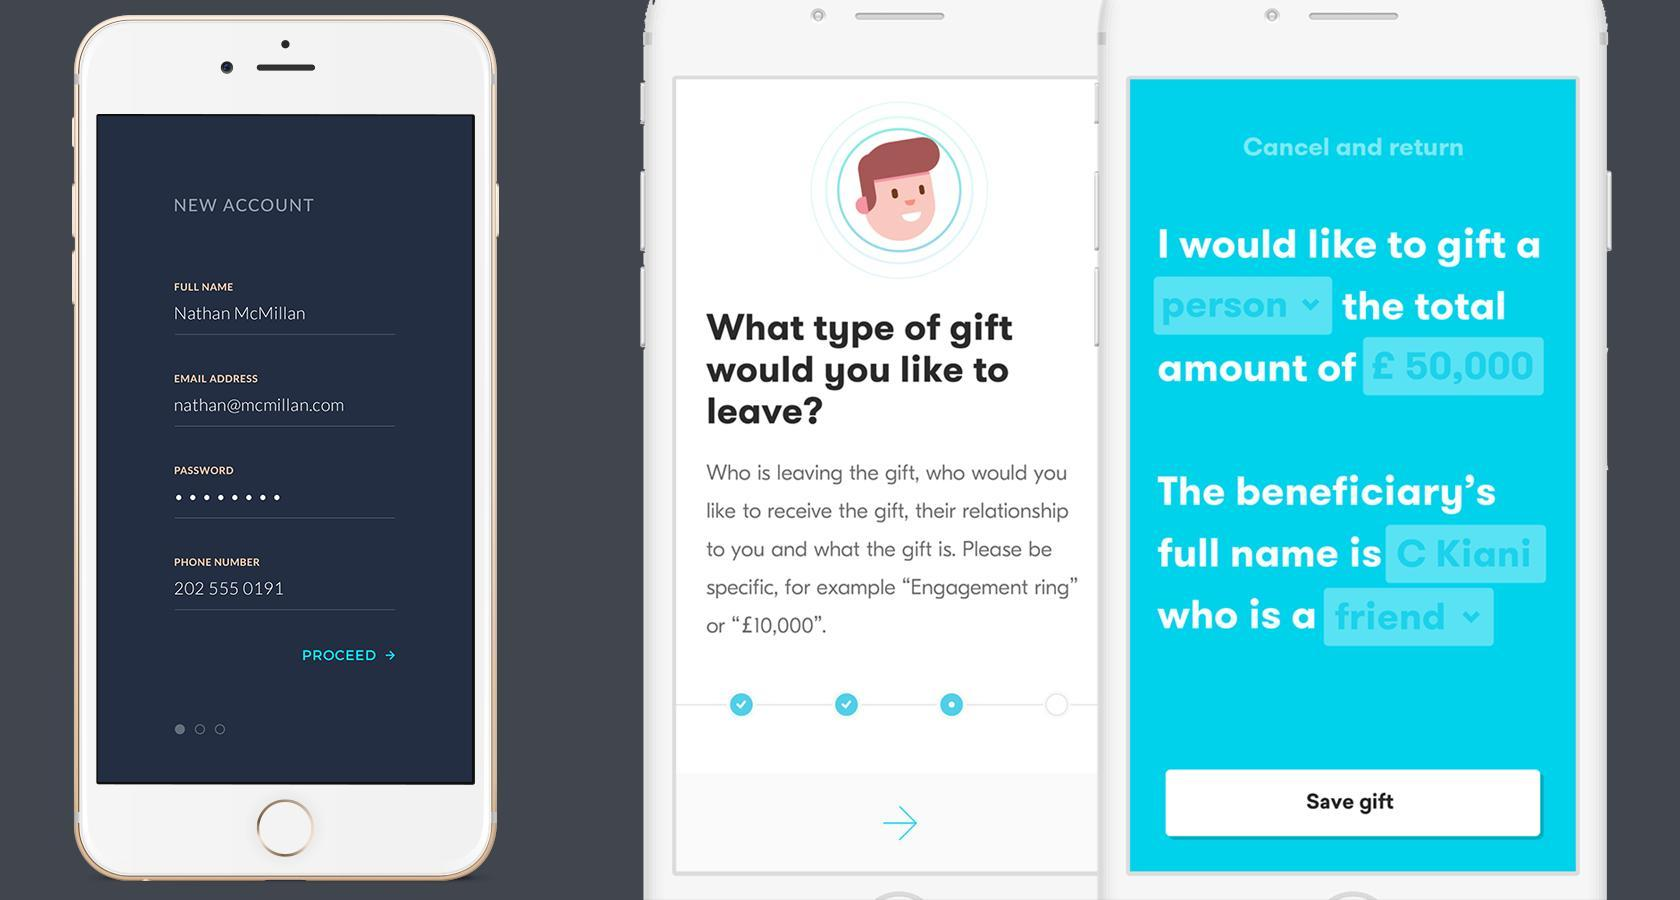button: (1162, 767, 1544, 842)
label: (176, 193, 319, 219), (170, 556, 264, 569), (172, 373, 260, 386), (172, 281, 240, 294), (172, 464, 236, 476)
